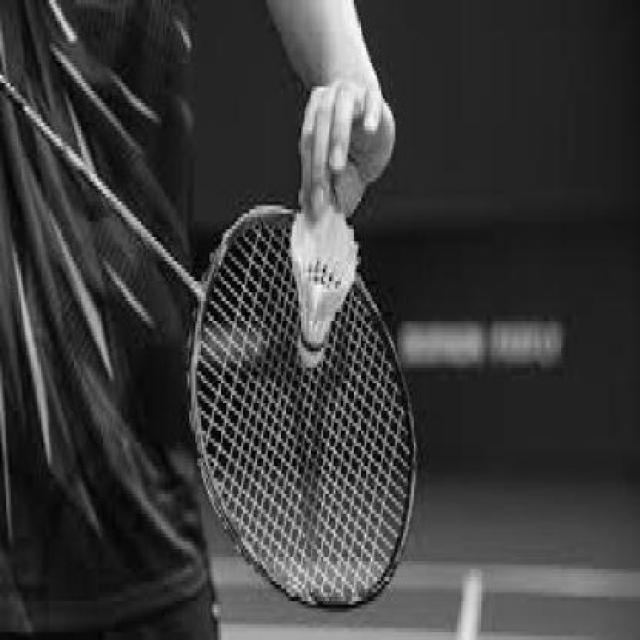Shuttlecock: (290, 202, 358, 363)
